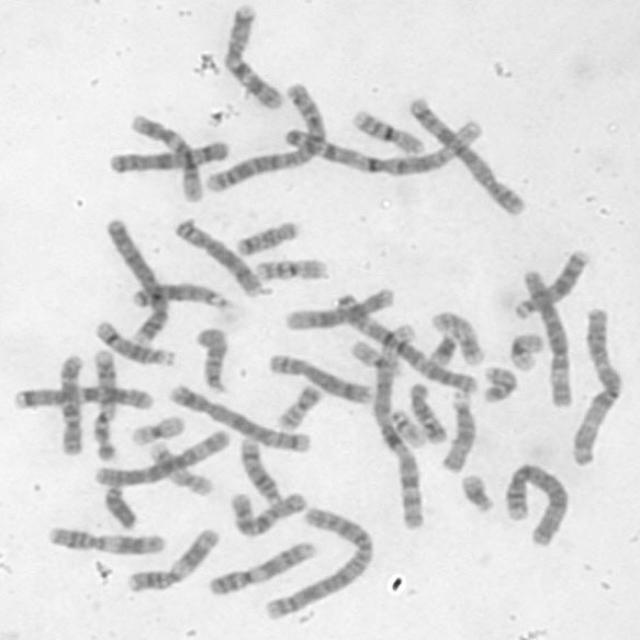A1: (276, 111, 488, 178), (366, 310, 429, 532)
A2: (200, 77, 329, 195), (259, 503, 376, 621)
A3: (333, 288, 482, 394), (568, 304, 626, 469)
B4: (101, 214, 172, 347), (501, 460, 568, 548)
B5: (404, 92, 527, 218), (167, 382, 312, 453)
C10: (227, 488, 311, 537), (56, 351, 86, 455)
C11: (122, 524, 222, 594), (43, 522, 168, 556)
C12: (126, 109, 207, 204), (281, 284, 396, 332)
C6: (89, 425, 233, 489), (517, 266, 576, 411)
C7: (220, 1, 288, 111), (9, 382, 155, 414)
C8: (169, 214, 264, 296), (264, 349, 374, 406)
C9: (204, 538, 320, 598), (88, 345, 120, 462)
D13: (509, 243, 593, 320), (126, 279, 234, 313)
D14: (90, 316, 177, 368), (236, 435, 282, 506)
D15: (437, 388, 479, 474), (191, 322, 232, 394)
E16: (348, 105, 428, 157), (250, 254, 328, 284)
E17: (146, 437, 215, 498), (427, 307, 486, 367)
E18: (405, 380, 449, 444), (232, 217, 300, 258)
F19: (128, 412, 186, 448), (505, 328, 546, 373)
F20: (272, 381, 324, 431), (479, 362, 518, 405)
G21: (457, 470, 496, 515), (423, 328, 459, 367)
G22: (386, 406, 426, 449), (348, 338, 396, 370)
X: (103, 136, 233, 175)
Y: (101, 482, 139, 530)
